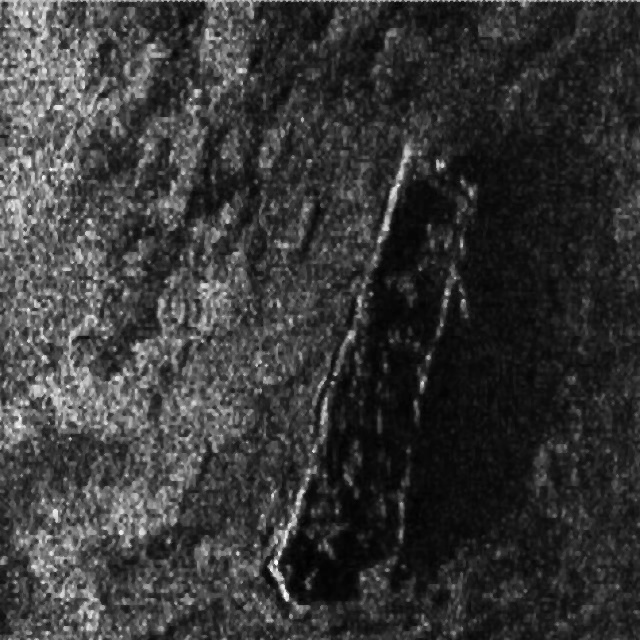Ship: (255, 110, 502, 640)
